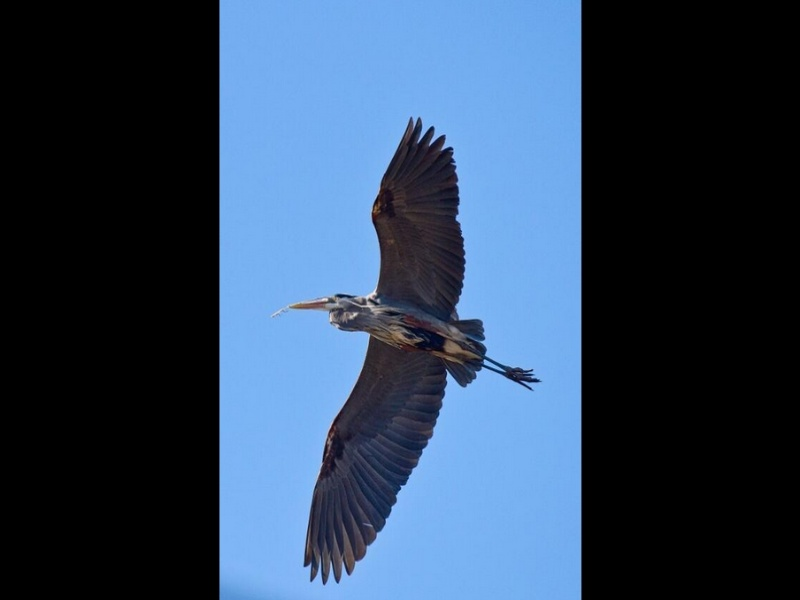heron: (286, 112, 535, 585)
